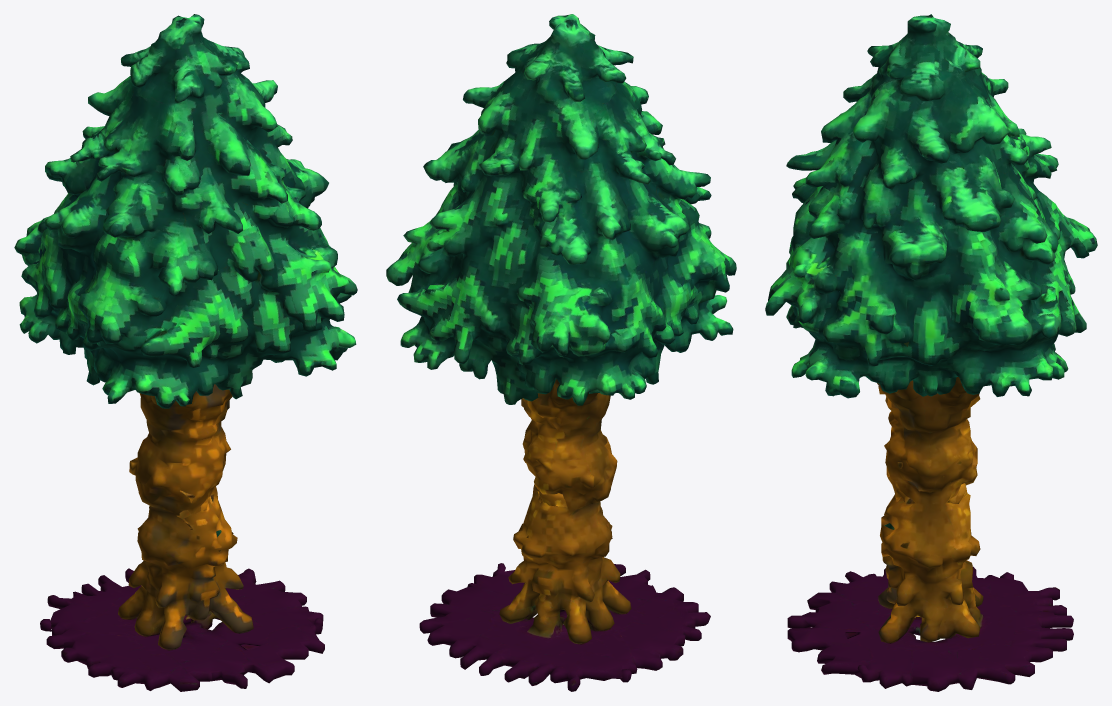
File: midnight_evergreen.glb
3 views of the same model, side by side, from view 1: azimuth 30°, elevation 25°; view 2: azimuth 150°, elevation 25°; view 3: azimuth 270°, elevation 25° (orthographic).
Size of the model in its own units: 0.8689 by 1.91 by 0.9315.
1 material, 1 textured.
